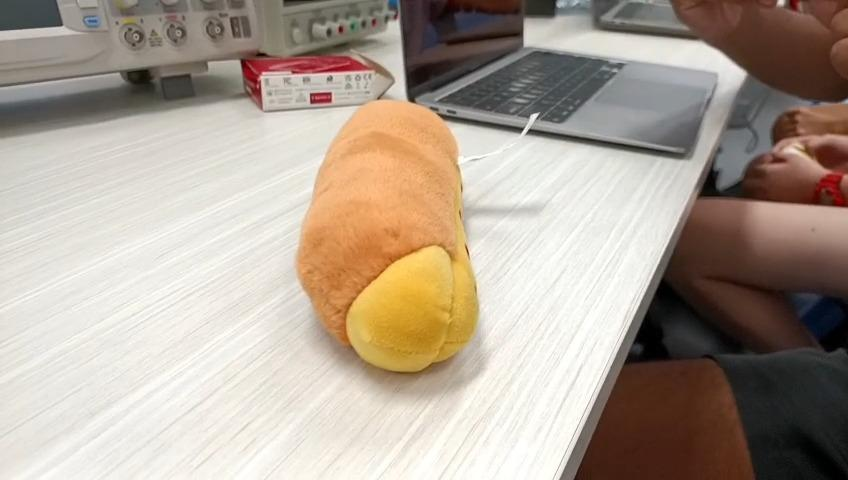hotdog: (296, 100, 479, 373)
